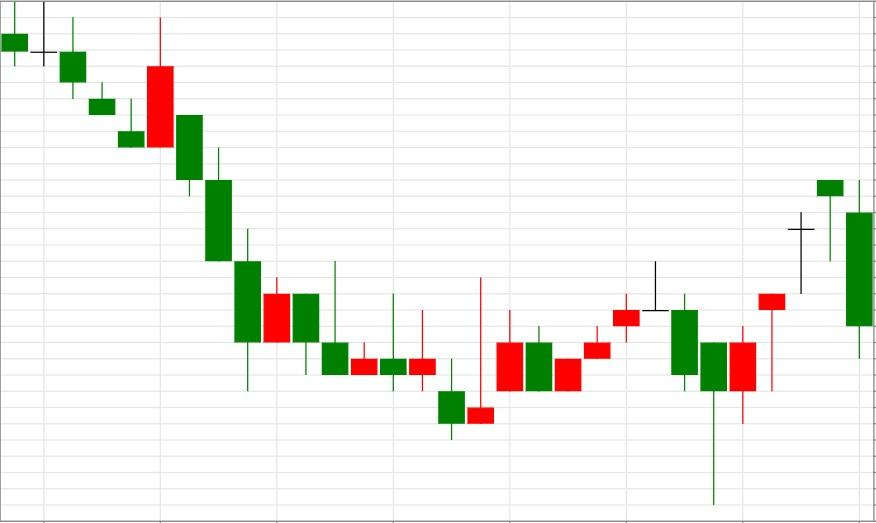evening_star_fall: (554, 261, 699, 392)
hanging_man_fall: (700, 179, 844, 505)
inverse_hammer_rise: (146, 19, 495, 440)
